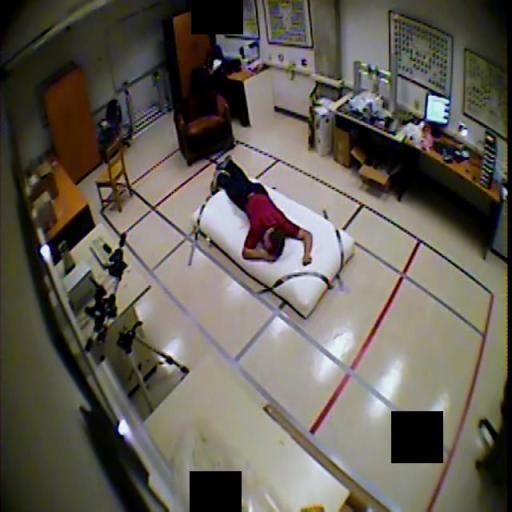Fall: (210, 156, 312, 268)
